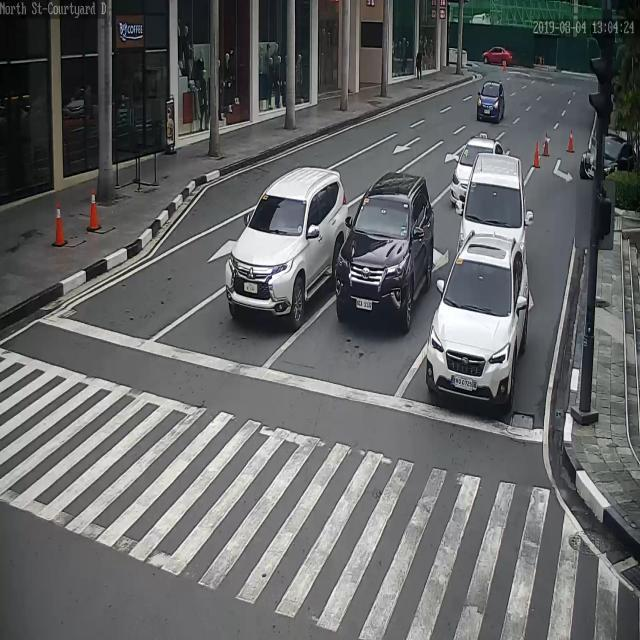car: (227, 166, 344, 325), (428, 228, 530, 409), (334, 171, 432, 329), (451, 134, 505, 208), (579, 129, 638, 179), (476, 78, 505, 121), (481, 48, 512, 66)
van: (458, 151, 526, 263)
